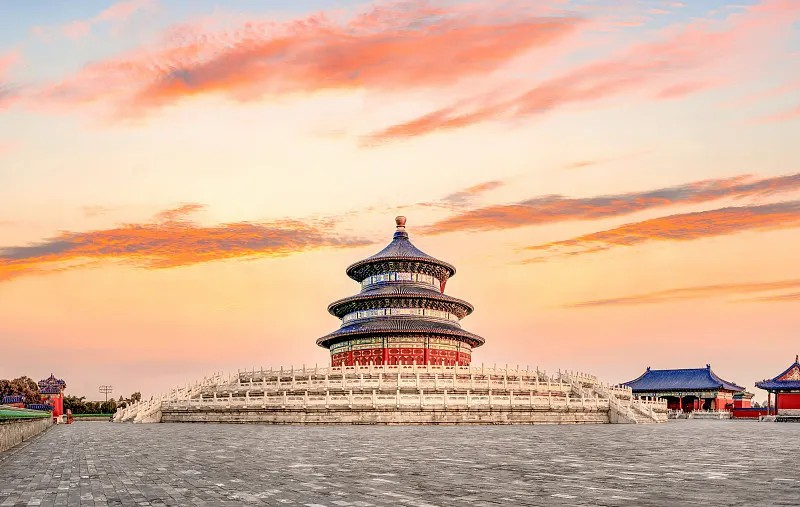Heaven: (316, 216, 487, 369)
